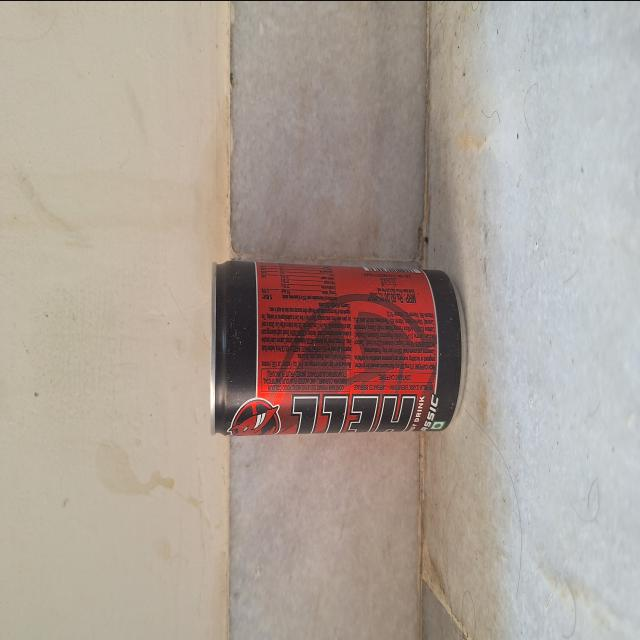Hell Classic: (201, 245, 476, 450)
